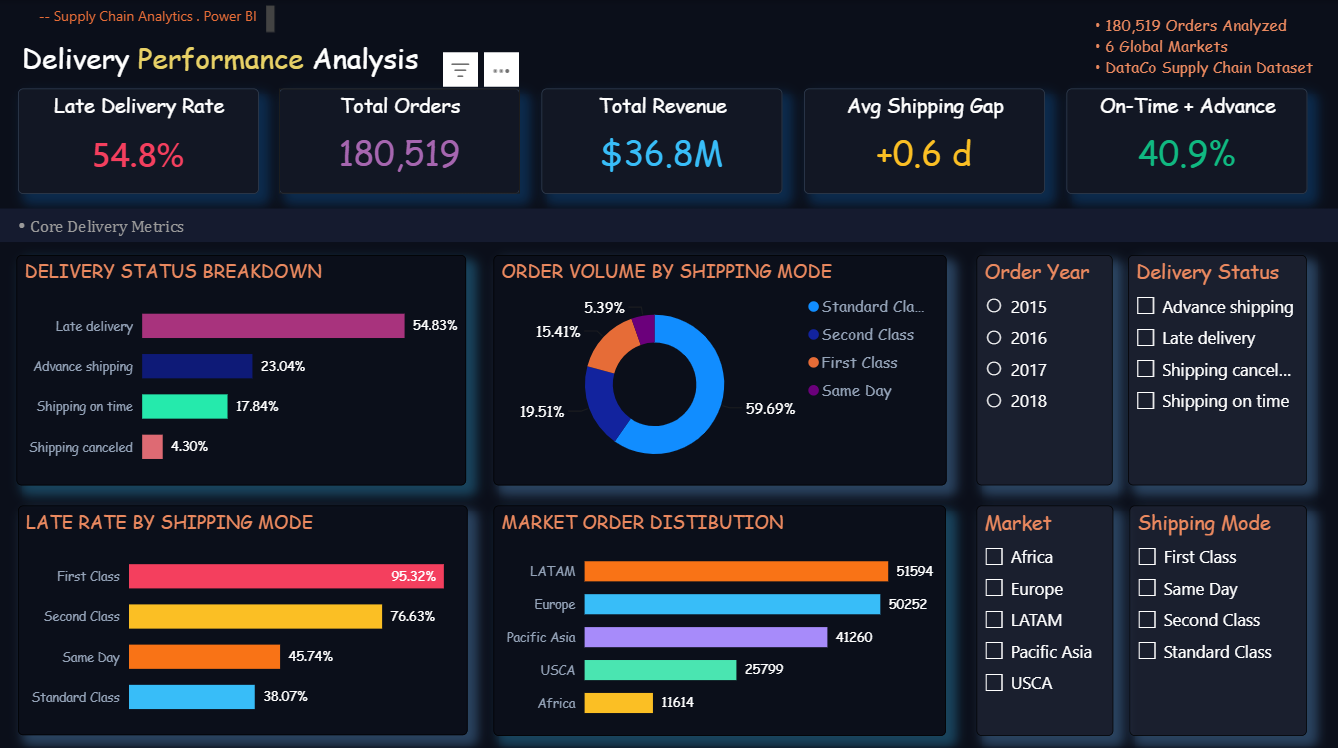

What the dashboard file says about the page in this screenshot:
{"tool":"powerbi","page":{"name":"Page 1","canvas":[1280,720],"ordinal":0},"visuals":[{"type":"cardVisual","title":"Total Orders","fields":{"Data":["KPI Measures.Total Orders"]},"box":[266.6,83.8,230,100.6],"z":0},{"type":"cardVisual","title":"Total Revenue","fields":{"Data":["KPI Measures.Total Revenue"]},"box":[516.5,83.8,230,100.6],"z":1000},{"type":"cardVisual","title":"Avg Shipping Gap","fields":{"Data":["KPI Measures.Avg Gap Formatted"]},"box":[768,83.8,230,100.6],"z":2000},{"type":"cardVisual","title":"On-Time + Advance","fields":{"Data":["KPI Measures.On Time + Advance Rate"]},"box":[1017.9,83.8,230,100.6],"z":3000},{"type":"cardVisual","title":"Late Delivery Rate","fields":{"Data":["KPI Measures.Late Delivery Rate"]},"box":[16.8,83.8,230,100.6],"z":4000},{"type":"textbox","box":[30.9,0,235.8,40.7],"z":5000},{"type":"textbox","box":[16.3,31,431,50.4],"z":6000},{"type":"textbox","box":[1027.9,8.4,233.1,75.5],"z":7000},{"type":"textbox","box":[0,199.5,1279.4,31.9],"z":8000},{"type":"clusteredBarChart","title":"LATE RATE BY SHIPPING MODE","fields":{"Category":["DataCo.Shipping Mode"],"Y":["KPI Measures.Late Delivery Rate"]},"box":[17.9,482,429.4,219.6],"z":9000},{"type":"donutChart","title":"ORDER VOLUME BY SHIPPING MODE","fields":{"Y":["CountNonNull(DataCo.Order Id)"],"Category":["DataCo.Shipping Mode"]},"box":[471.7,244,432.7,220],"z":10000},{"type":"clusteredBarChart","title":"MARKET ORDER DISTIBUTION","fields":{"Y":["CountNonNull(DataCo.Order Id)"],"Category":["DataCo.Market"]},"box":[471.4,482,432.1,220],"z":11000},{"type":"clusteredBarChart","title":"DELIVERY STATUS BREAKDOWN","fields":{"Category":["DataCo.Delivery Status"],"Y":["KPI Measures.Delivery Status %"]},"box":[16.3,244,429.4,220],"z":12000},{"type":"listSlicer","fields":{"Values":["DataCo.Order Year"]},"box":[932,244,130.1,220],"z":13000},{"type":"listSlicer","fields":{"Values":["DataCo.Shipping Mode"]},"box":[1078.6,482,169.6,220],"z":14000},{"type":"listSlicer","fields":{"Values":["DataCo.Market"]},"box":[932.1,482,130.4,220],"z":15000},{"type":"listSlicer","fields":{"Values":["DataCo.Delivery Status"]},"box":[1076.8,244,170.8,220],"z":16000}]}

Visuals, with their boxes in screenshot pixels (x1, y1, x2, y2), scaled from the page's 1280x720 canvas onto the 1338x748 screenshot:
"Total Orders" cardVisual: select_region(279, 87, 519, 192)
"Total Revenue" cardVisual: select_region(540, 87, 780, 192)
"Avg Shipping Gap" cardVisual: select_region(803, 87, 1043, 192)
"On-Time + Advance" cardVisual: select_region(1064, 87, 1304, 192)
"Late Delivery Rate" cardVisual: select_region(18, 87, 258, 192)
textbox: select_region(32, 0, 279, 42)
textbox: select_region(17, 32, 468, 85)
textbox: select_region(1074, 9, 1318, 87)
textbox: select_region(0, 207, 1337, 240)
"LATE RATE BY SHIPPING MODE" clusteredBarChart: select_region(19, 501, 468, 729)
"ORDER VOLUME BY SHIPPING MODE" donutChart: select_region(493, 253, 945, 482)
"MARKET ORDER DISTIBUTION" clusteredBarChart: select_region(493, 501, 944, 729)
"DELIVERY STATUS BREAKDOWN" clusteredBarChart: select_region(17, 253, 466, 482)
listSlicer - DataCo.Order Year: select_region(974, 253, 1110, 482)
listSlicer - DataCo.Shipping Mode: select_region(1127, 501, 1305, 729)
listSlicer - DataCo.Market: select_region(974, 501, 1111, 729)
listSlicer - DataCo.Delivery Status: select_region(1126, 253, 1304, 482)
